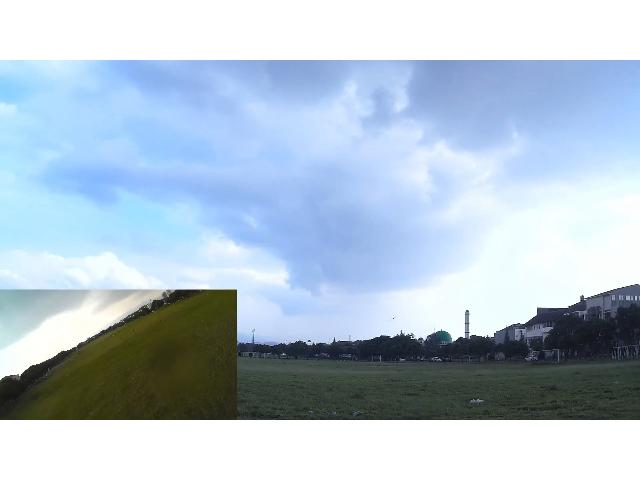Anti-Drone: (383, 310, 409, 324)
